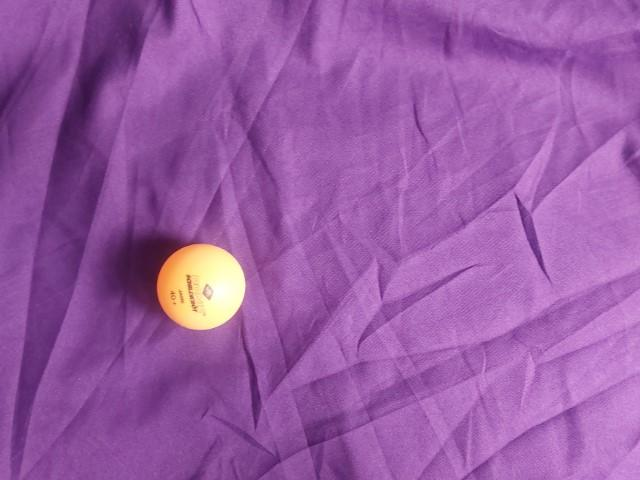oball: (387, 144, 491, 243)
